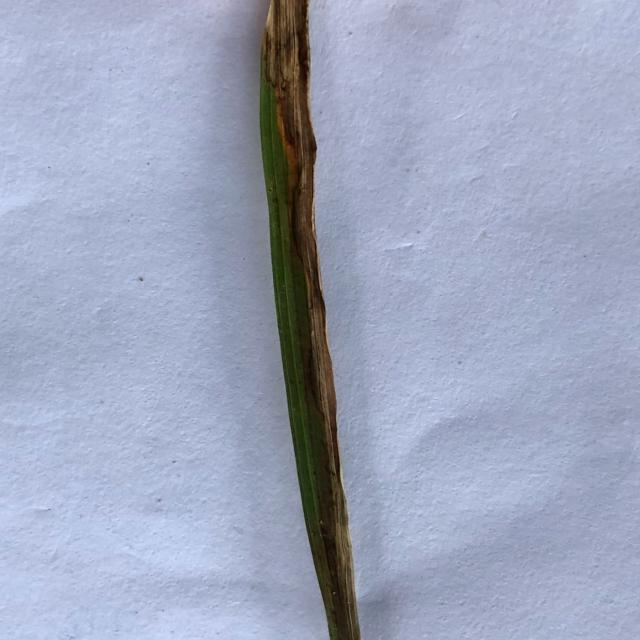leaf blight: (298, 243, 359, 640), (260, 0, 320, 243)
